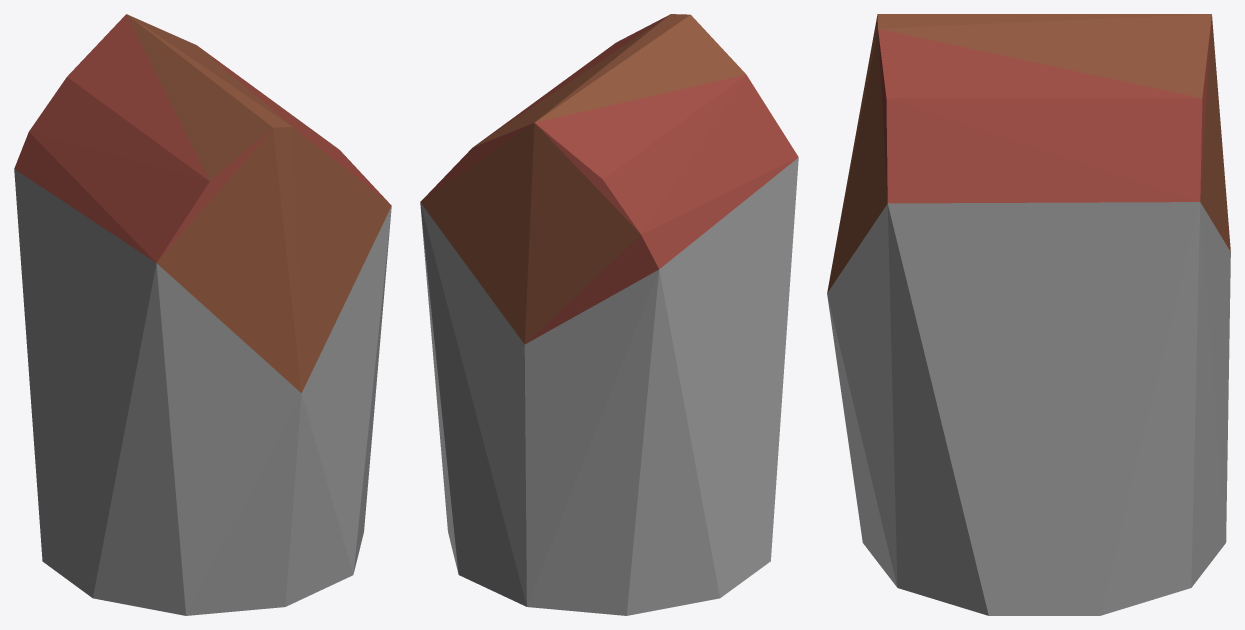
Rendered from Well.lod4.glb.
The picture shows the model from 3 angles, left to right: view 1: azimuth 30°, elevation 25°; view 2: azimuth 150°, elevation 25°; view 3: azimuth 270°, elevation 25°; orthographic projection. The views are drawn at different scales.
Visible parts, largest first — view 1: Well; view 2: Well; view 3: Well.
Part boxes in pixels (left/top/right/bottom): Well: left=14, top=14, right=391, bottom=615; Well: left=420, top=14, right=798, bottom=615; Well: left=827, top=14, right=1230, bottom=615.
Bounding box in the file's own units: 1.28 × 2.15 × 1.49.
